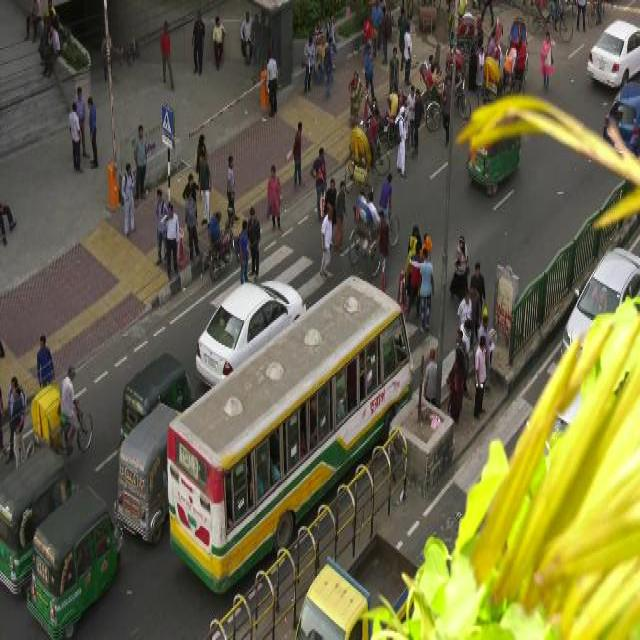bus: (165, 272, 414, 599)
car: (191, 267, 306, 389), (581, 16, 639, 92), (599, 81, 638, 148)
motorcycle: (23, 482, 122, 638), (0, 446, 81, 603), (0, 444, 81, 601), (111, 394, 183, 546), (113, 350, 195, 448), (23, 377, 95, 464), (346, 195, 401, 278), (341, 123, 388, 197)
